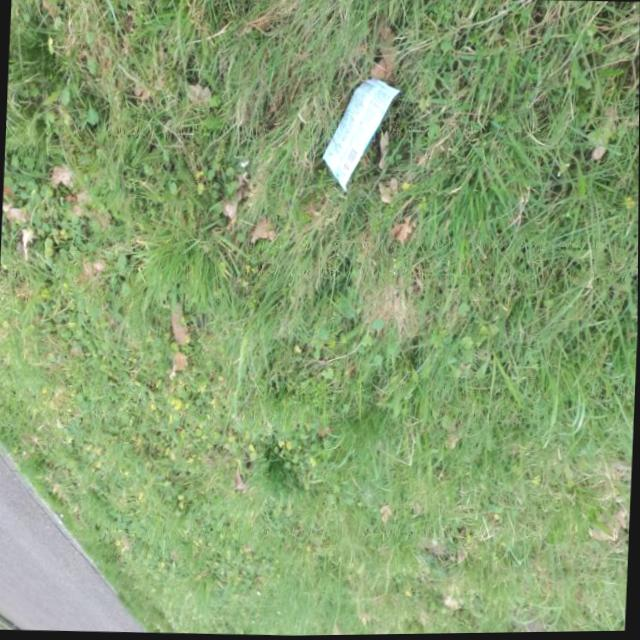Plastic: (321, 75, 402, 197)
